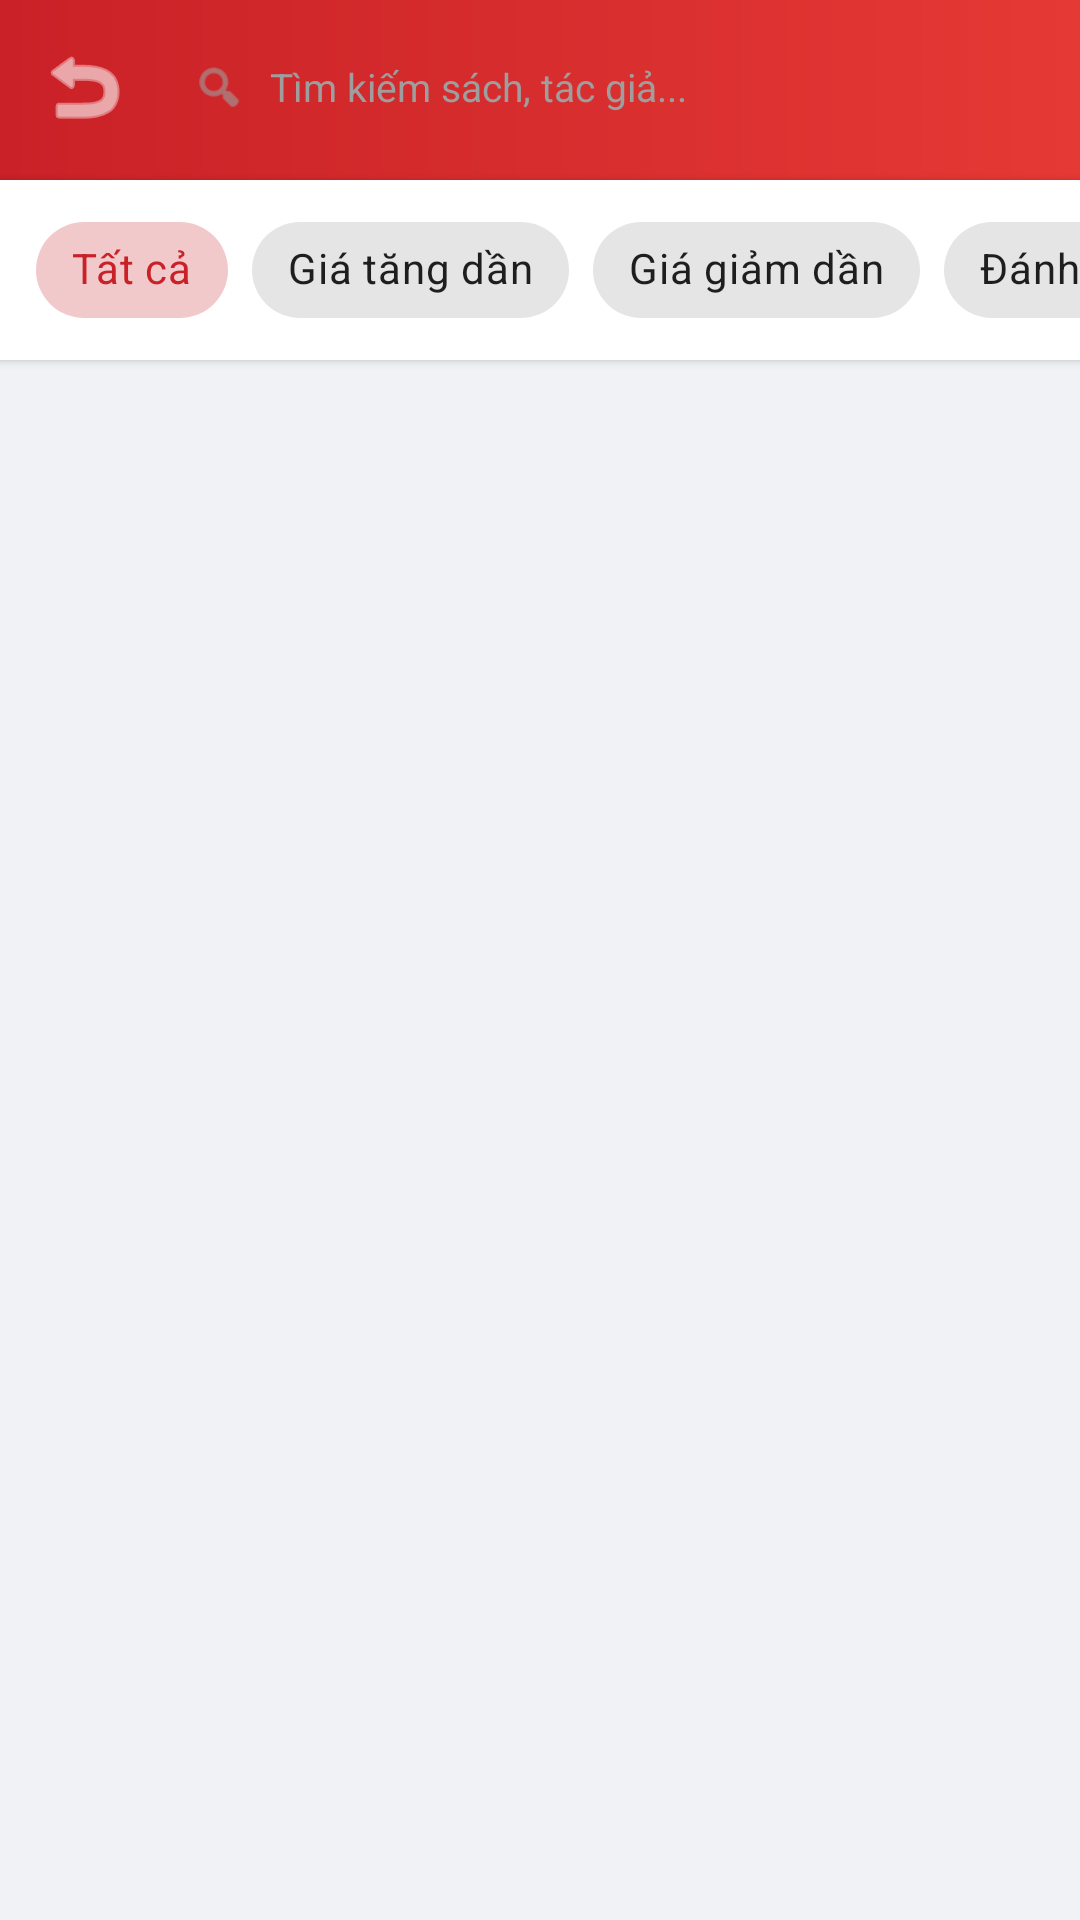

Icons on this 1080×1920 Android screen, each with the point to tap as (x,y):
revert: (85,87)
search: (219,87)
